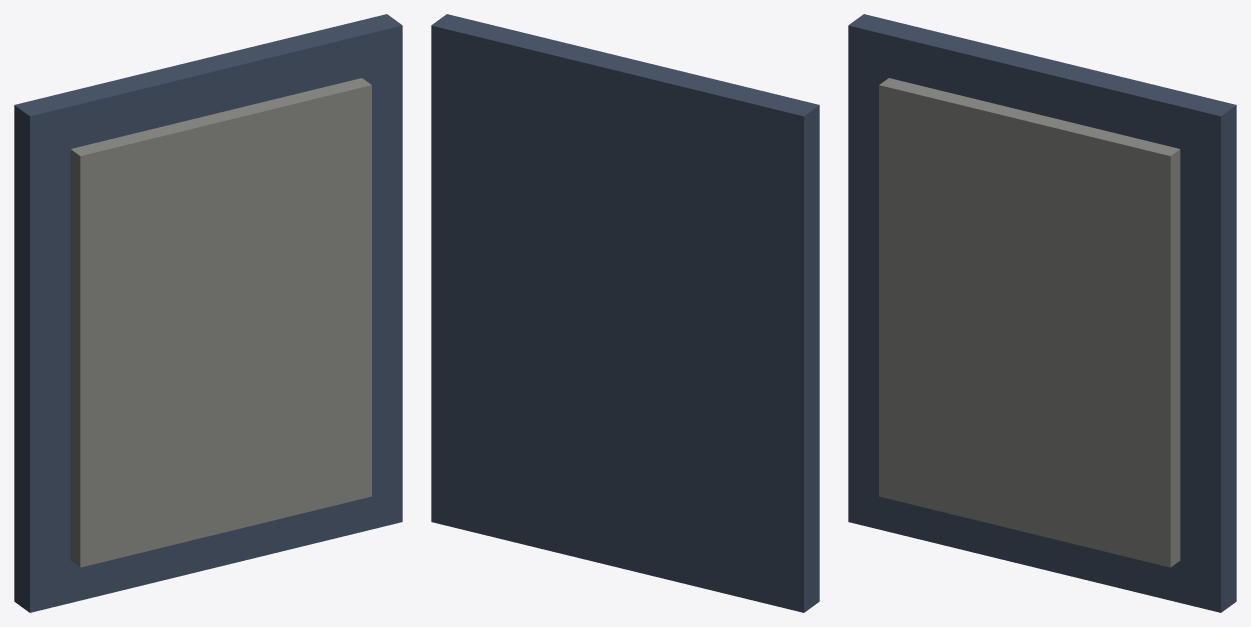
File: kz6_hatch.obj
3 renders of one model, left to right at view 1: azimuth 30°, elevation 25°; view 2: azimuth 150°, elevation 25°; view 3: azimuth 330°, elevation 25°, orthographic.
Parts seen in each view (by area): view 1: kz6_hatch; view 2: kz6_hatch; view 3: kz6_hatch.
Part boxes in pixels (x1,y1,x2,y2): kz6_hatch: (14, 14, 402, 612); kz6_hatch: (431, 14, 819, 612); kz6_hatch: (848, 14, 1236, 612).
Bounding box in the file's own units: 1.1 × 1.4 × 0.13.
